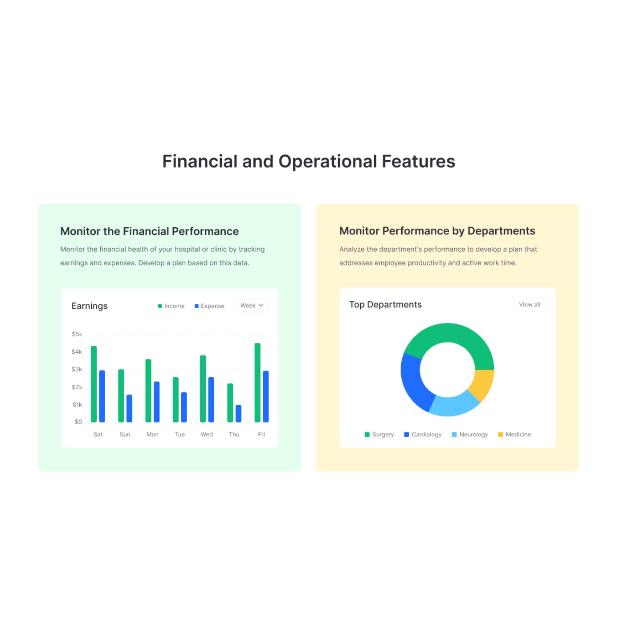Bar: (60, 286, 280, 450)
Doughnut: (338, 284, 558, 450)
QLabel: (162, 151, 454, 169), (59, 243, 265, 267), (338, 245, 538, 268), (336, 224, 536, 236), (60, 224, 240, 236)
VCard: (37, 202, 303, 472), (315, 202, 581, 472)
